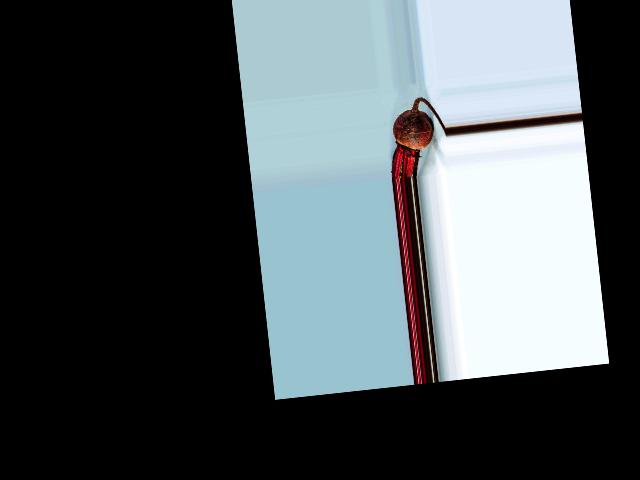beet: (383, 95, 450, 181)
